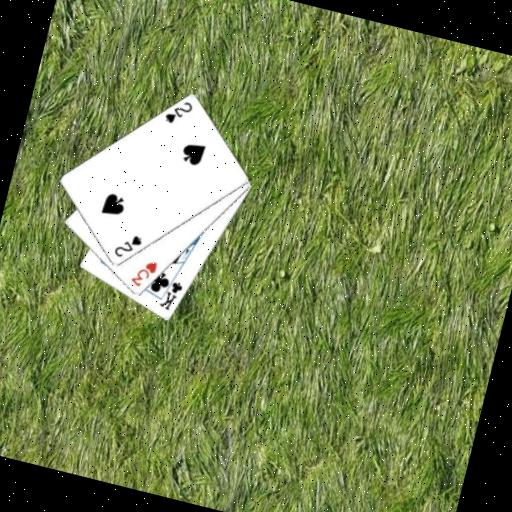2S: (161, 94, 196, 130), (110, 228, 145, 263)
3H: (127, 254, 160, 291)
KC: (154, 271, 186, 315)
